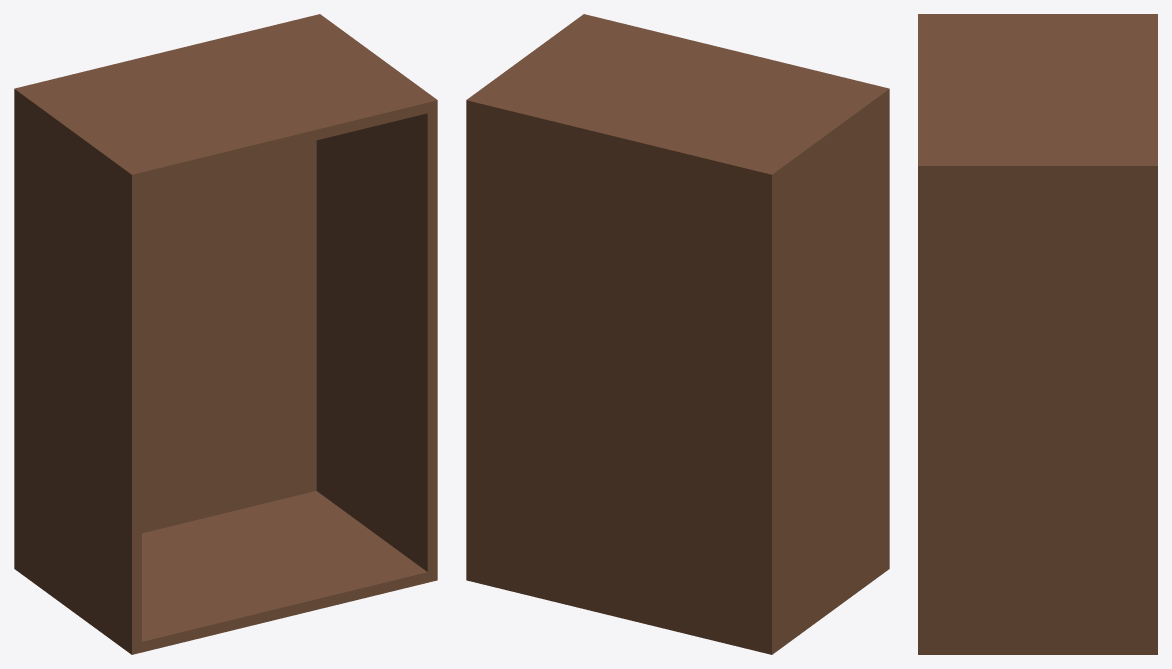
The model's file is Kitchen1_C2_07.fbx.
3 views of the same model, side by side, from view 1: azimuth 30°, elevation 25°; view 2: azimuth 150°, elevation 25°; view 3: azimuth 270°, elevation 25° (orthographic).
Visible parts, largest first — view 1: Kitchen1_C2_07; view 2: Kitchen1_C2_07; view 3: Kitchen1_C2_07.
Part boxes in pixels (<box>): Kitchen1_C2_07: <box>14,14,437,654</box>; Kitchen1_C2_07: <box>466,14,889,654</box>; Kitchen1_C2_07: <box>918,14,1157,654</box>.
Bounding box in the file's own units: 60 × 90 × 40.
